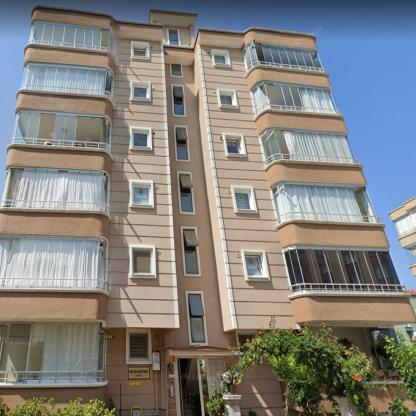door: (176, 358, 225, 415)
window: (0, 322, 106, 381), (1, 236, 106, 292), (282, 247, 402, 294), (1, 167, 110, 214), (270, 181, 378, 223), (259, 129, 355, 167), (20, 62, 113, 99), (251, 82, 338, 117), (28, 22, 115, 54), (243, 43, 323, 74), (186, 291, 208, 344), (10, 111, 42, 144), (182, 226, 200, 274), (130, 246, 156, 278), (126, 330, 152, 362), (52, 113, 77, 146), (242, 250, 269, 280), (178, 172, 194, 214), (130, 179, 153, 207), (395, 208, 415, 237), (174, 126, 190, 162), (234, 186, 256, 211), (130, 126, 151, 150), (224, 134, 246, 155), (172, 86, 186, 116), (102, 118, 113, 150), (132, 82, 150, 100), (218, 90, 238, 106), (132, 42, 150, 59), (212, 50, 230, 66), (168, 29, 181, 46), (406, 242, 415, 264), (171, 65, 183, 78)
